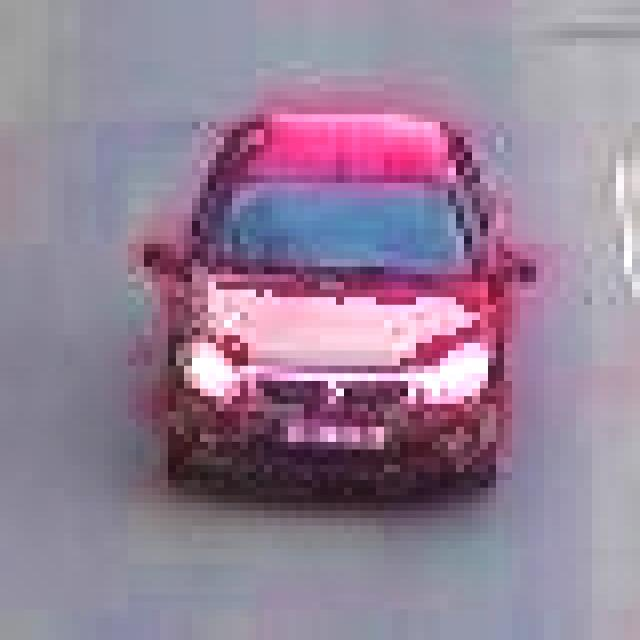maroon: (164, 114, 516, 488)
